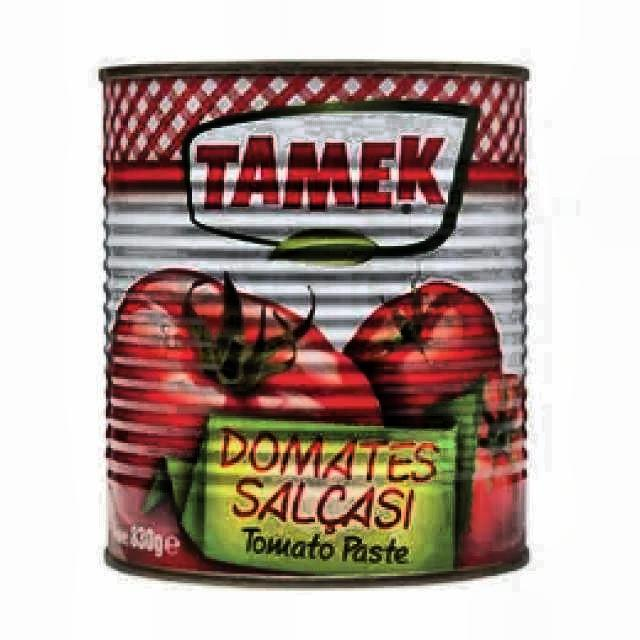metal: (100, 61, 530, 584)
